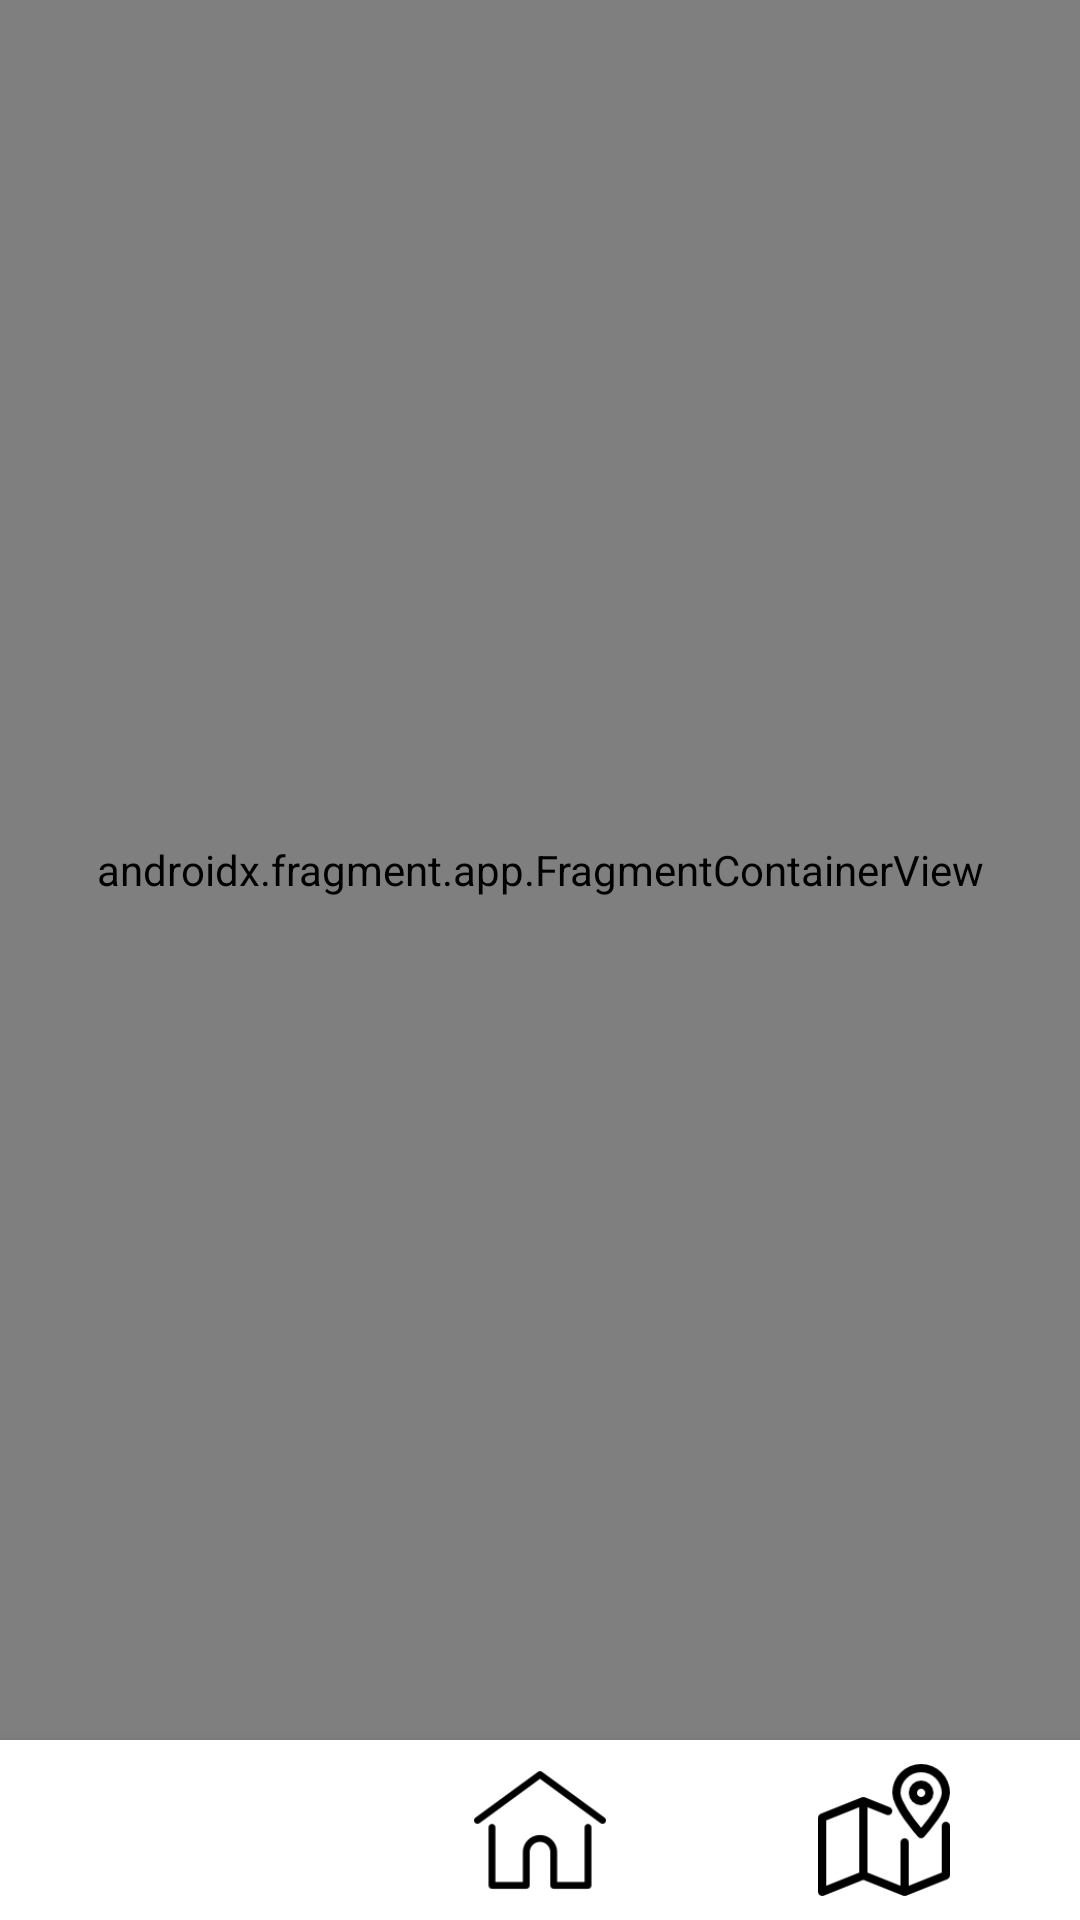

Icons on this 1080×1920 Android screen, each with the point to tap as point (x, y):
Home: point (540, 1830)
Map: point (884, 1830)
